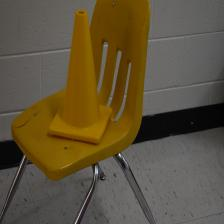cone: (49, 10, 112, 144)
